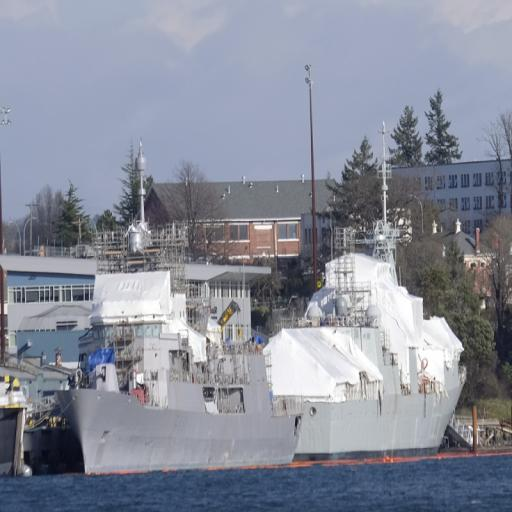Fragata: (19, 122, 306, 482)
